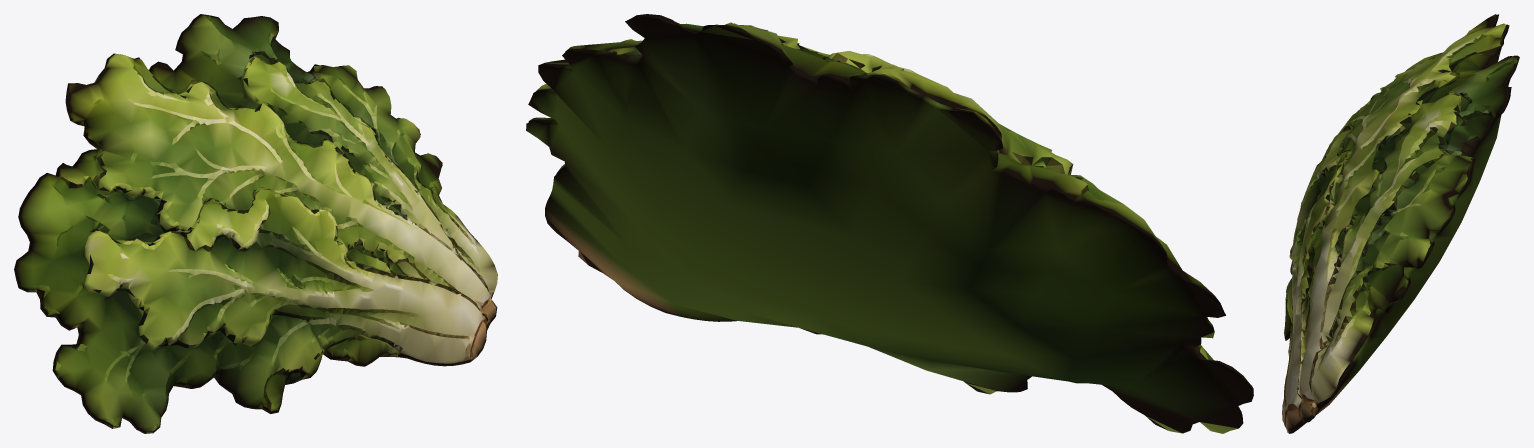
The model's file is SM_greens.fbx.
3 views of the same model, side by side, from view 1: azimuth 30°, elevation 25°; view 2: azimuth 150°, elevation 25°; view 3: azimuth 270°, elevation 25° (orthographic). The views are drawn at different scales.
Visible parts, largest first — view 1: SM_greens; view 2: SM_greens; view 3: SM_greens.
Boxes of the visible parts, x1=… form: SM_greens: x1=14, y1=14, x2=497, y2=433; SM_greens: x1=526, y1=14, x2=1253, y2=433; SM_greens: x1=1282, y1=14, x2=1519, y2=433.
Bounding box in the file's own units: 0.2851 × 0.1836 × 0.1305.
